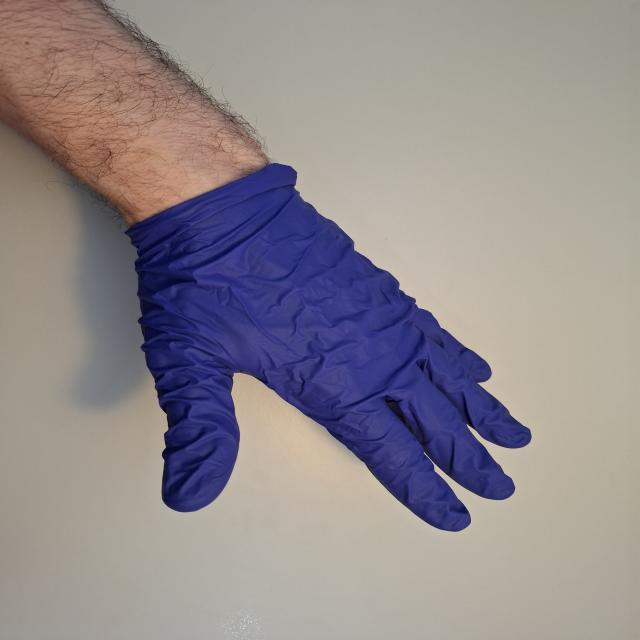glove_on: (115, 158, 539, 536)
